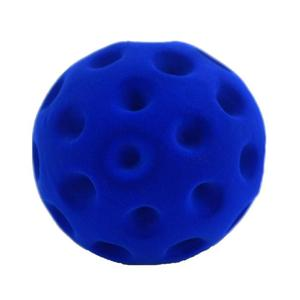blue ball: (32, 40, 267, 266)
